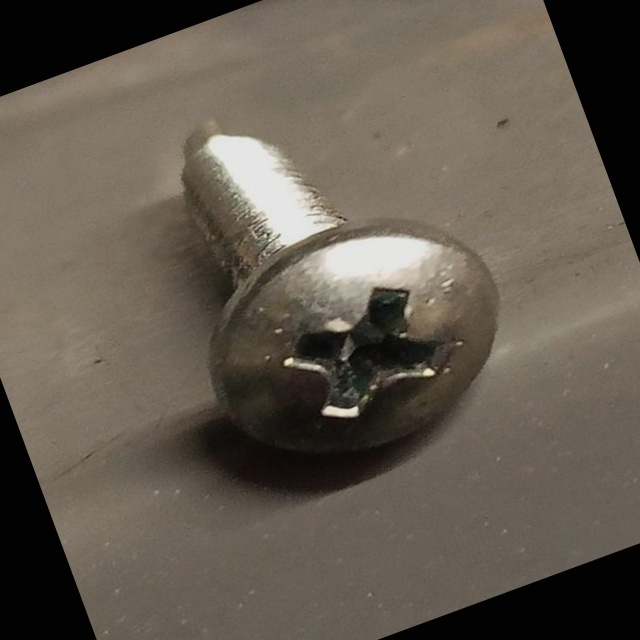phillips: (175, 181, 537, 498)
